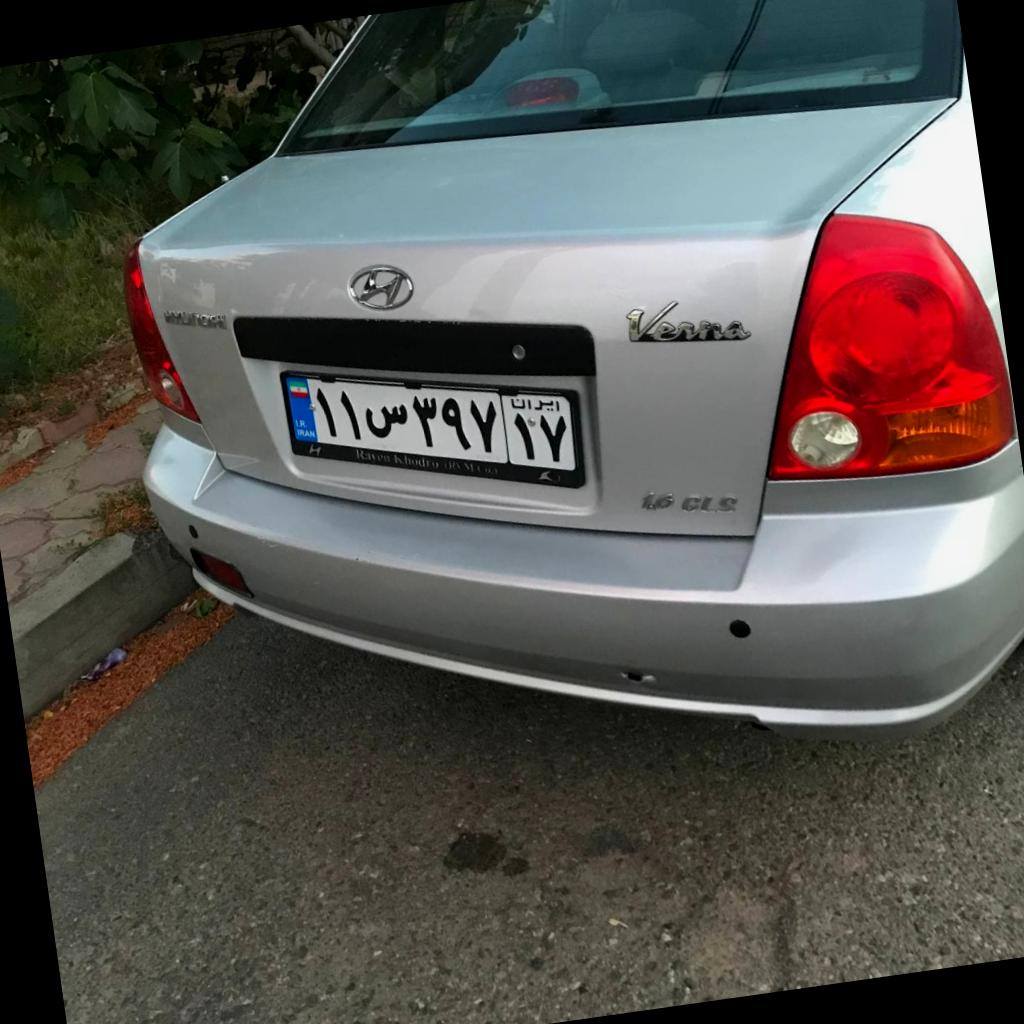Plates: (285, 376, 576, 470)
